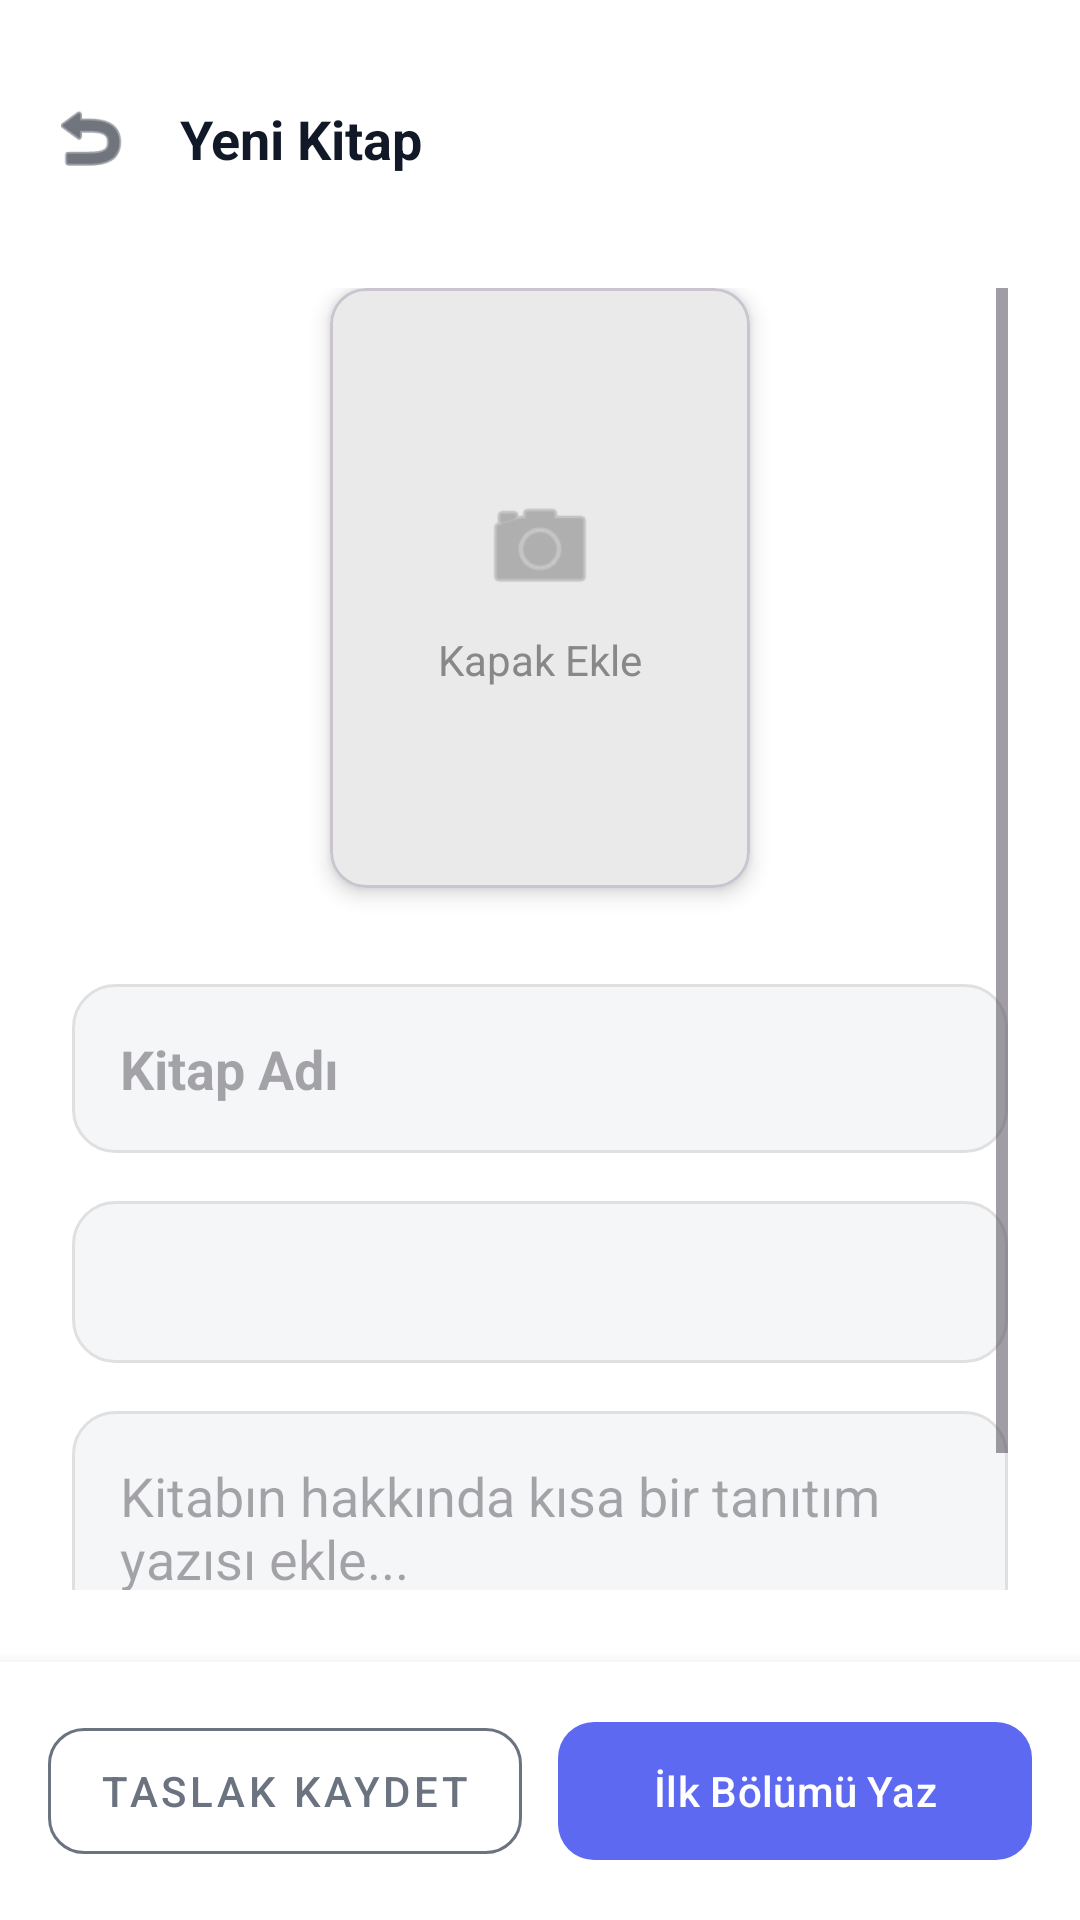

Screen size 1080w x 1920h. Icon name, then its box in pixels as (x1, y1, x2, y2):
camera: (494, 509, 586, 581)
revert: (61, 111, 121, 166)
